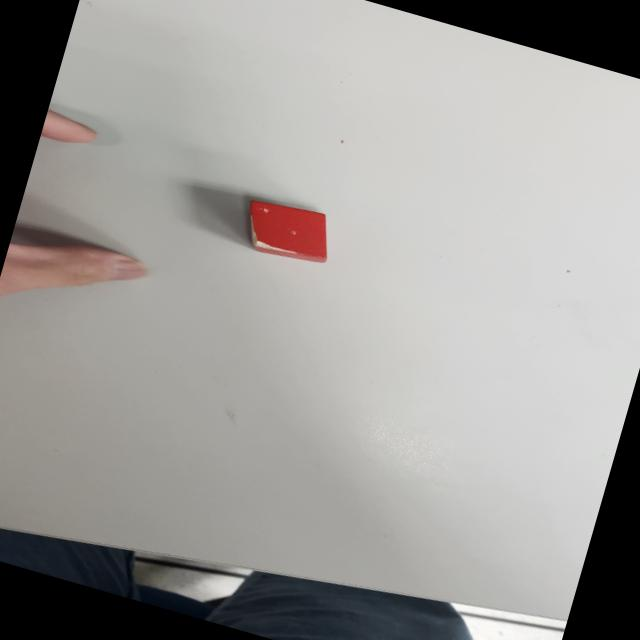broken: (238, 192, 339, 269)
